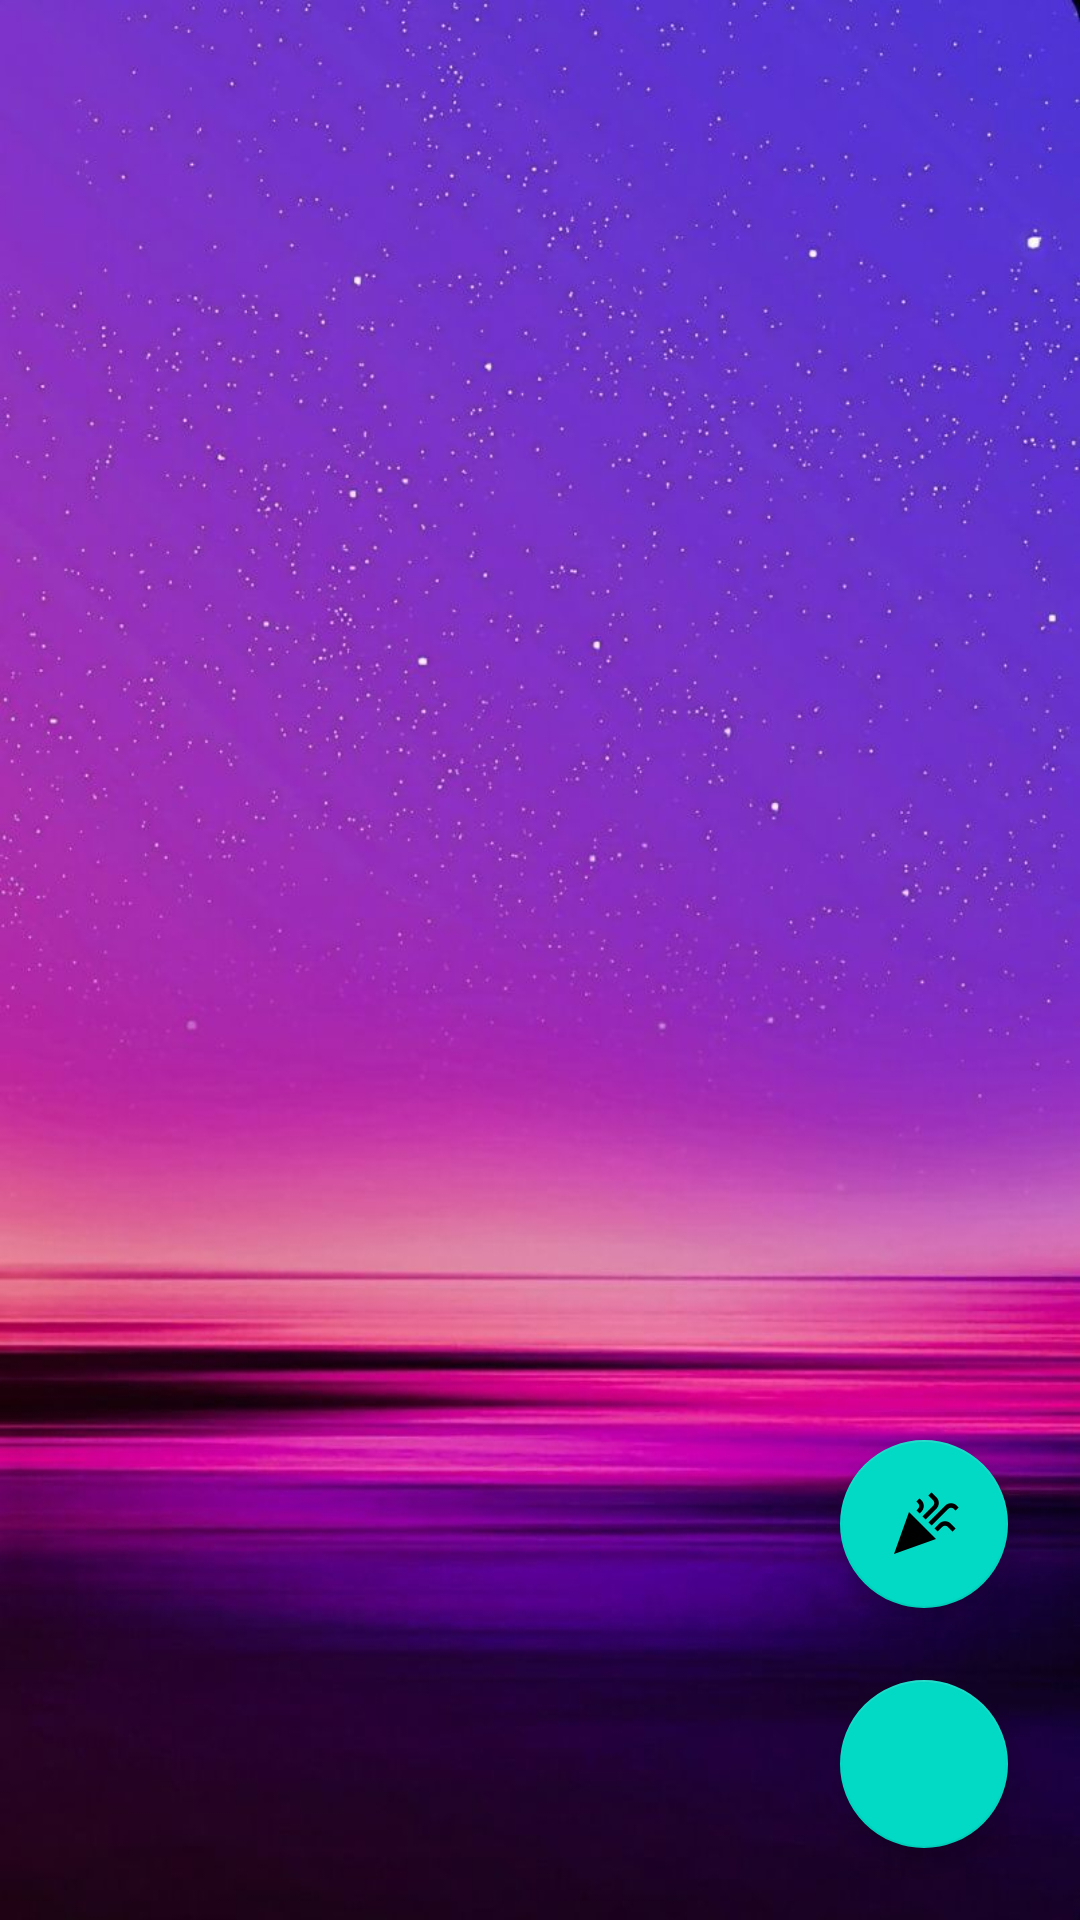

Icons on this 1080 × 1920 Android screen, each with the point to tap as (x,y):
celebration: (924,1524)
